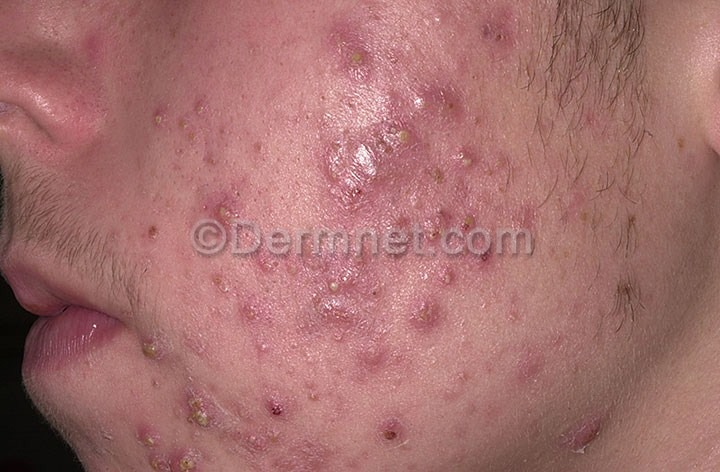Acne: (111, 63, 642, 468)
